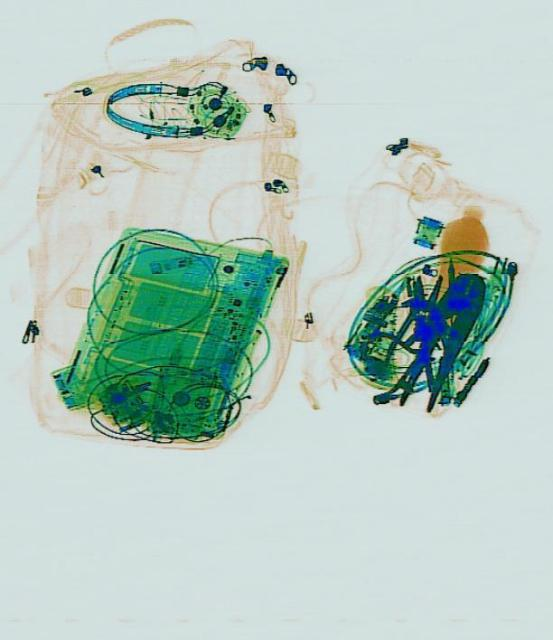Pliers: (393, 261, 492, 419), (357, 314, 446, 398), (383, 268, 451, 372)
